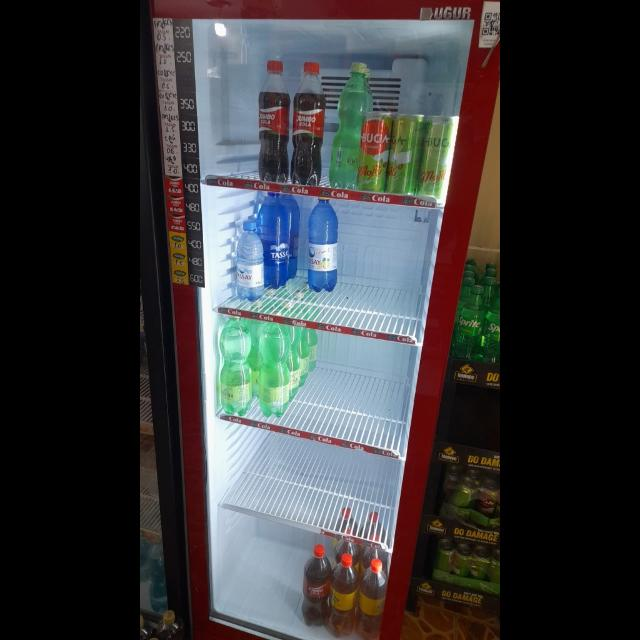Cooling-Display: (151, 1, 499, 640)
